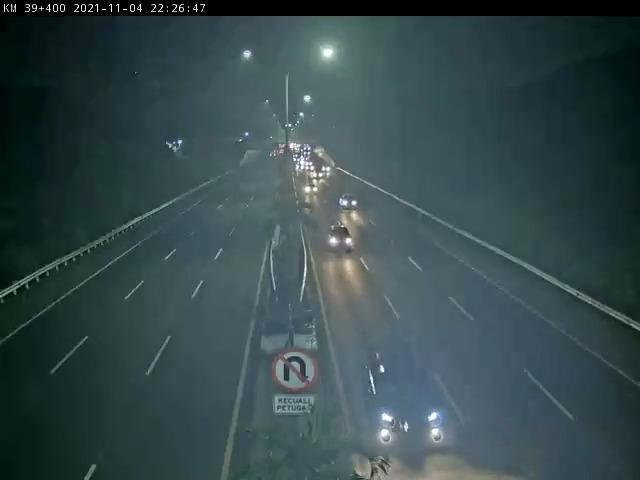car: (366, 354, 448, 453), (327, 227, 356, 252)
